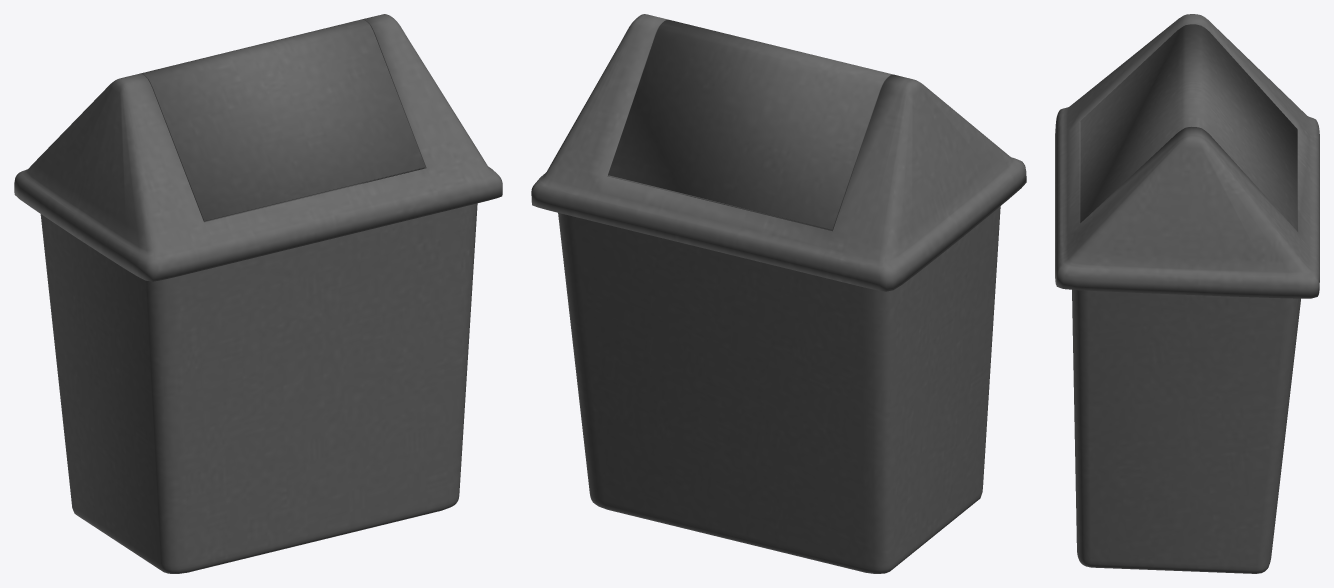
3 views of the same model, side by side, from view 1: azimuth 30°, elevation 25°; view 2: azimuth 150°, elevation 25°; view 3: azimuth 270°, elevation 25° (orthographic). The views are drawn at different scales.
Visible parts, largest first — view 1: default1; view 2: default1; view 3: default1.
Boxes of the visible parts, x1,y1,x2,y2 form: default1: [14, 14, 502, 573]; default1: [531, 14, 1026, 573]; default1: [1055, 14, 1319, 573].
Size of the model in its own units: 0.3862 by 0.2582 by 0.4671.
Materials: 1 (1 with a texture image).
